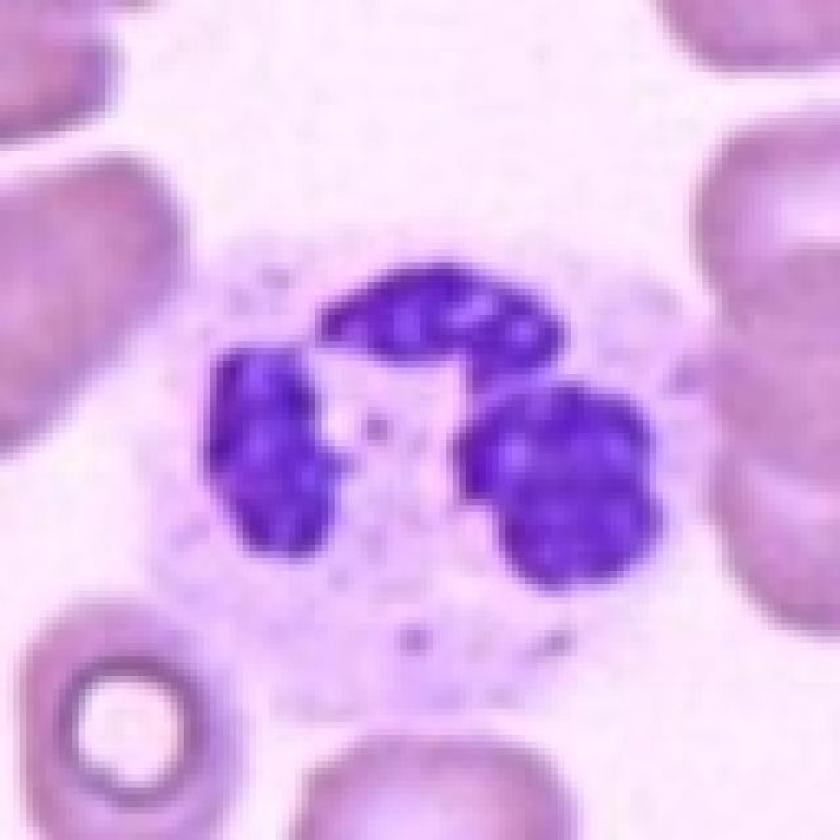neutrophil: (135, 228, 718, 722)
